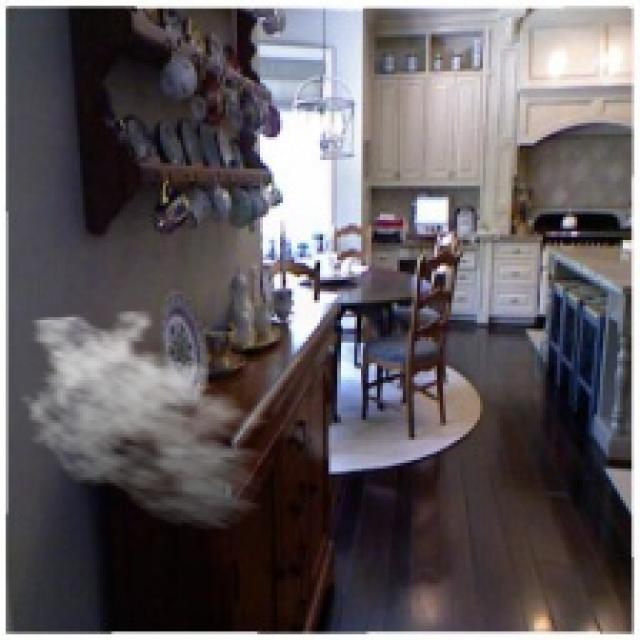smoke: (17, 308, 283, 532)
